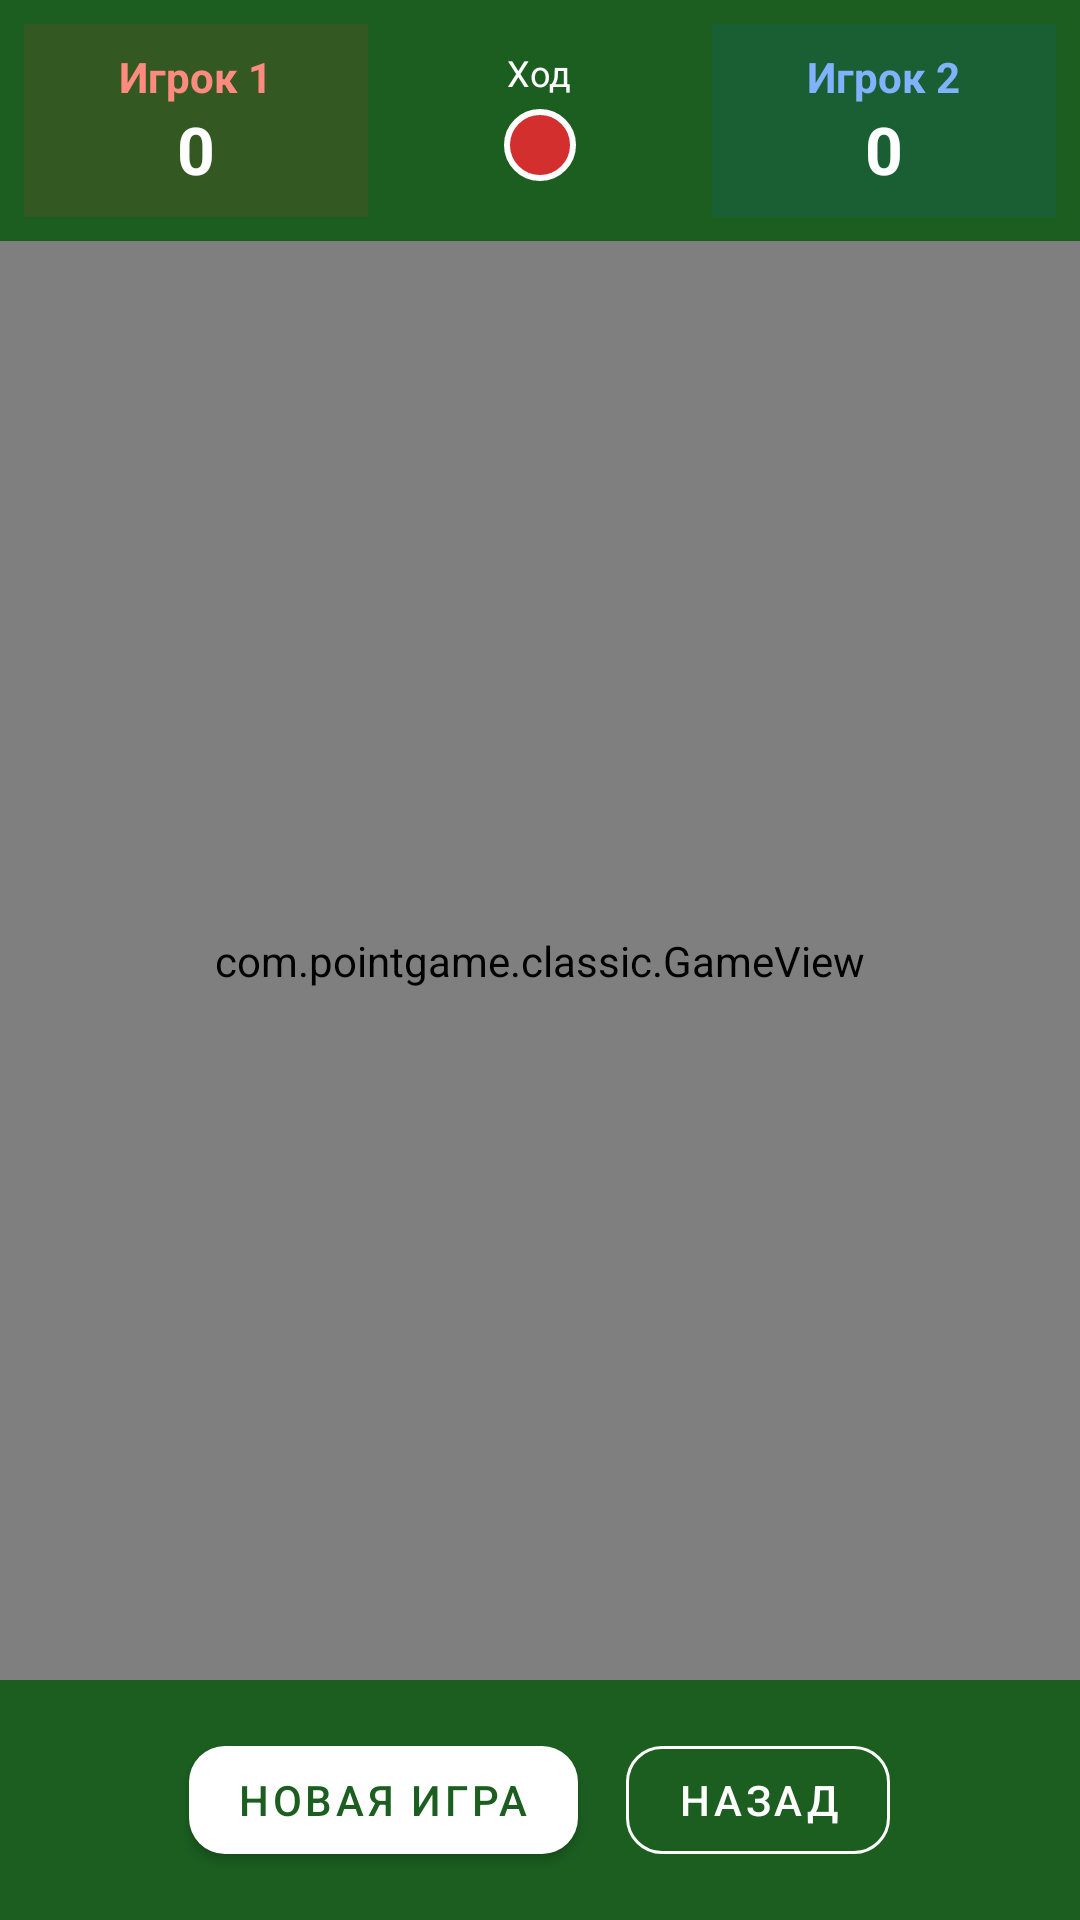

Icon bounding boxes for this 1080 x 1920 phone screenshot, format [left=x1, top=y1, right=x2, bottom=y2]:
dot indicator: [left=504, top=109, right=576, bottom=181]
